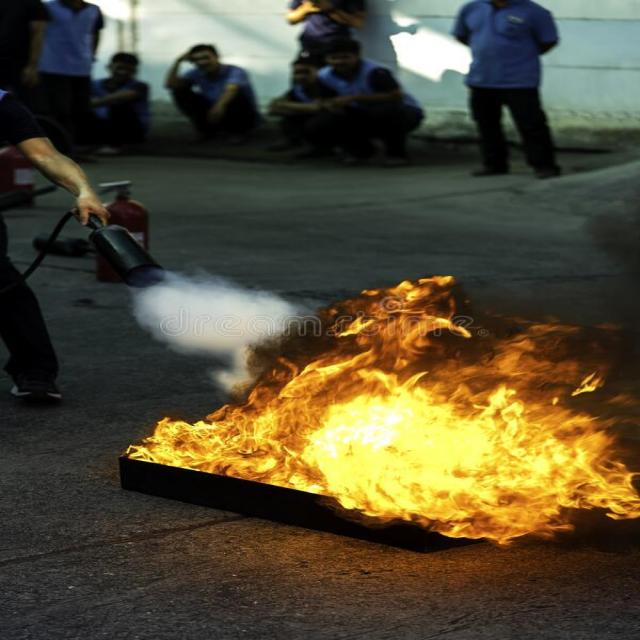fire_extinguisher: (8, 171, 156, 294)
